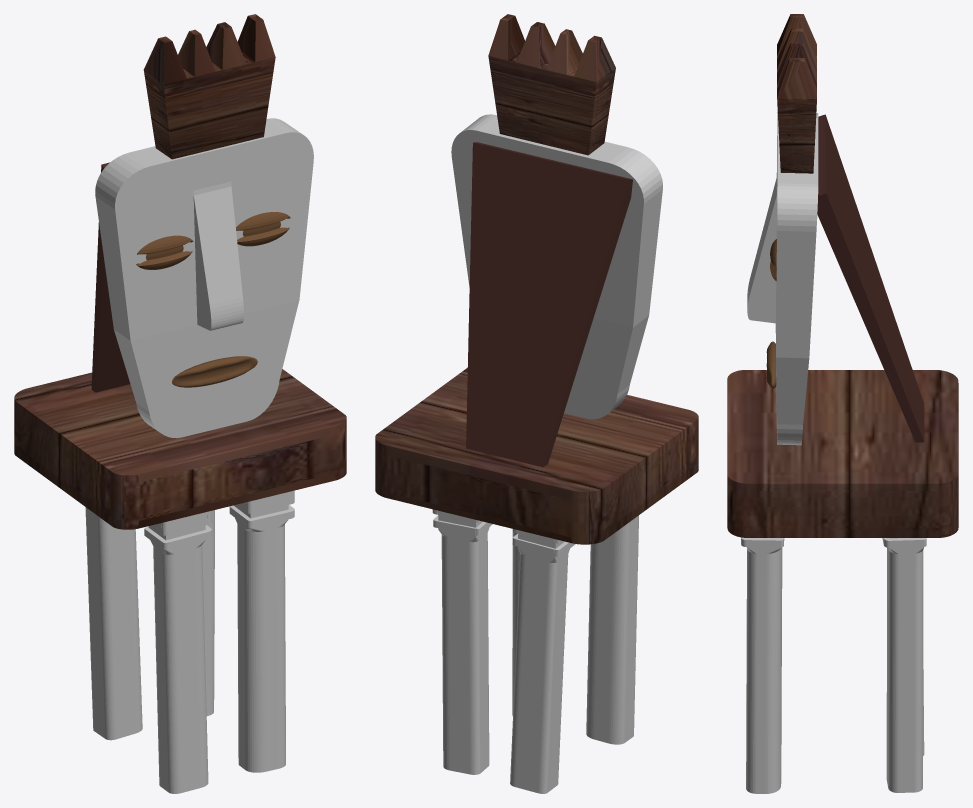
File: ukiran maluku.fbx
3 renders of one model, left to right at view 1: azimuth 30°, elevation 25°; view 2: azimuth 150°, elevation 25°; view 3: azimuth 270°, elevation 25°, orthographic. The views are drawn at different scales.
Parts seen in each view (by area): view 1: Cube.008, Cube.002, Cube.001, Cube.005, Cube.004, Cube.003, Cube.007, Cube.006, Sphere, Sphere.002, Sphere.001; view 2: Cube.007, Cube.002, Cube.008, Cube.001, Cube.003, Cube.006, Cube.005, Cube.004; view 3: Cube.002, Cube.008, Cube.007, Cube.006, Cube.004, Cube.001.
Part boxes in pixels (x1,y1,x2,y2): Cube.008: [95, 118, 313, 438]; Cube.002: [14, 369, 346, 529]; Cube.001: [143, 14, 275, 159]; Cube.005: [144, 511, 211, 793]; Cube.004: [229, 490, 294, 772]; Cube.003: [85, 507, 142, 740]; Cube.007: [91, 162, 130, 392]; Cube.006: [202, 510, 214, 716]; Sphere: [172, 356, 257, 387]; Sphere.002: [136, 235, 193, 269]; Sphere.001: [236, 212, 290, 246]; Cube.007: [466, 142, 632, 467]; Cube.002: [375, 368, 698, 544]; Cube.008: [451, 114, 662, 419]; Cube.001: [488, 14, 615, 155]; Cube.003: [510, 529, 575, 793]; Cube.006: [432, 509, 492, 774]; Cube.005: [586, 515, 638, 744]; Cube.004: [512, 531, 520, 715]; Cube.002: [727, 370, 958, 537]; Cube.008: [747, 112, 818, 445]; Cube.007: [817, 114, 924, 442]; Cube.006: [882, 538, 926, 792]; Cube.004: [741, 537, 784, 793]; Cube.001: [777, 14, 816, 173].
Bounding box in the file's own units: 147 × 441 × 127.
